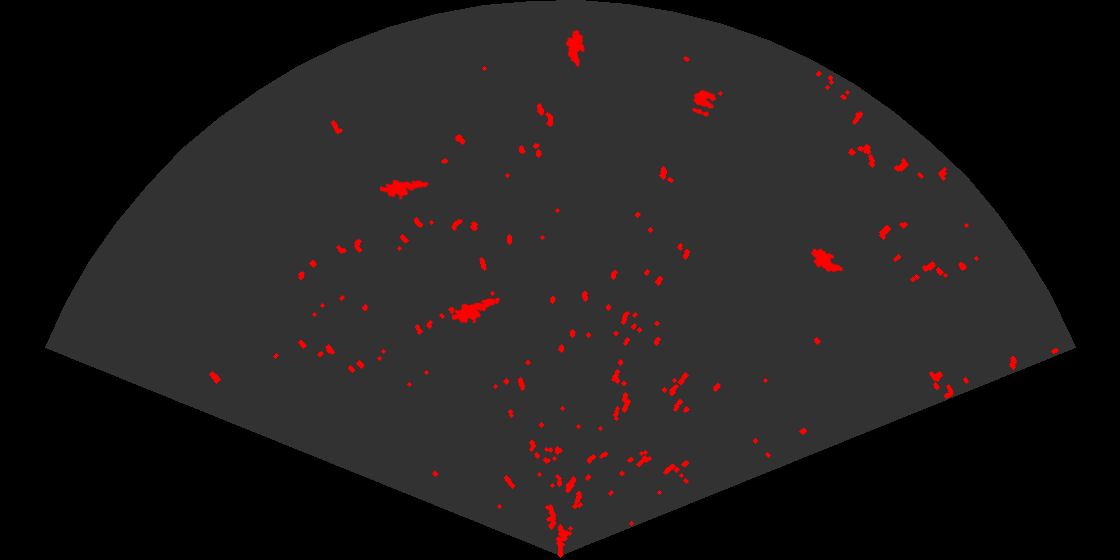AUV: (809, 247, 845, 274), (564, 28, 586, 69)
ball: (690, 88, 718, 118)
frogman: (452, 296, 500, 325), (380, 178, 429, 201)
